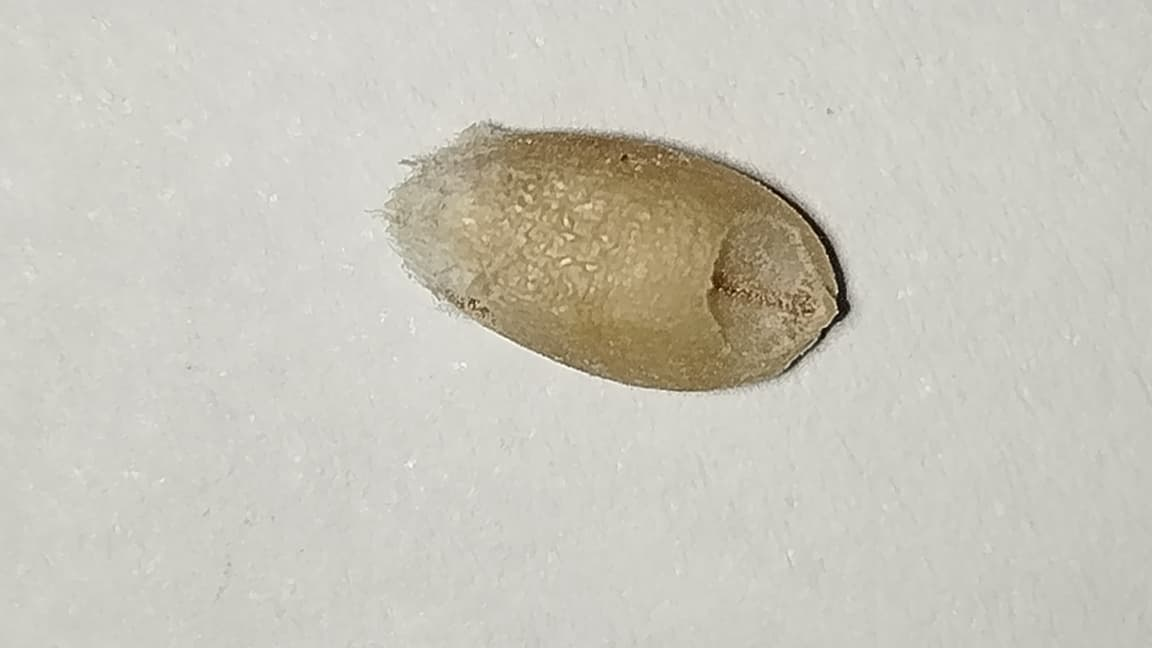damage: (386, 123, 837, 389)
insectdamage: (697, 201, 842, 387)
